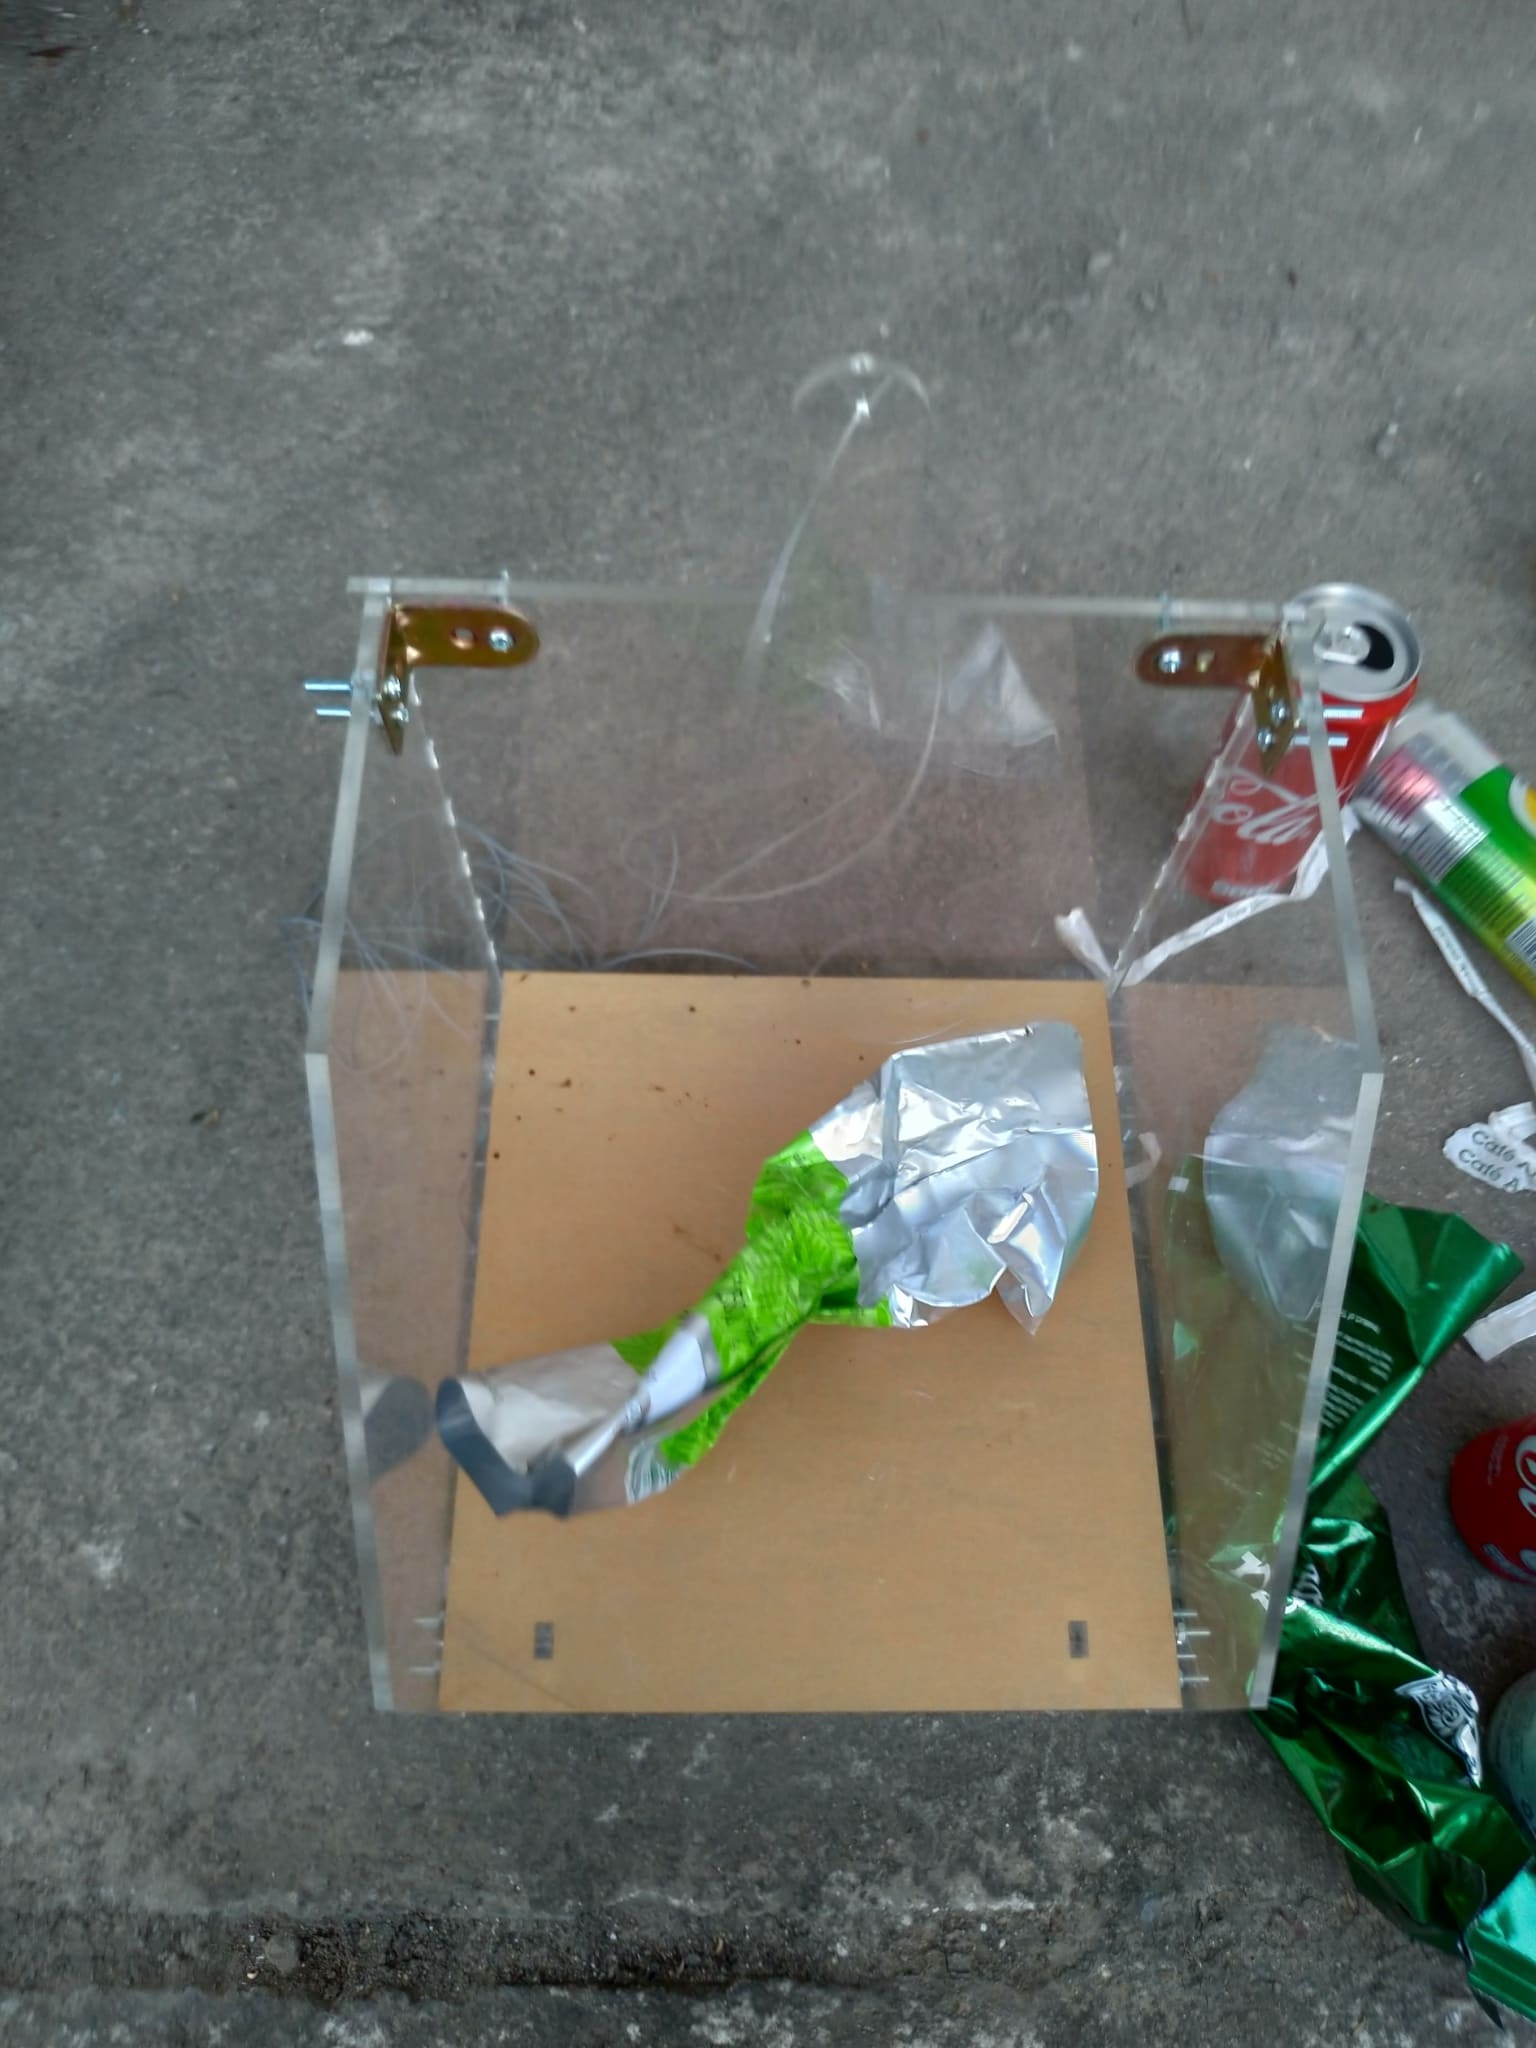AlCan: (1184, 572, 1413, 914), (1360, 705, 1536, 985), (1444, 1422, 1536, 1564)
Others: (444, 1011, 1094, 1517), (1179, 1158, 1536, 2013)
